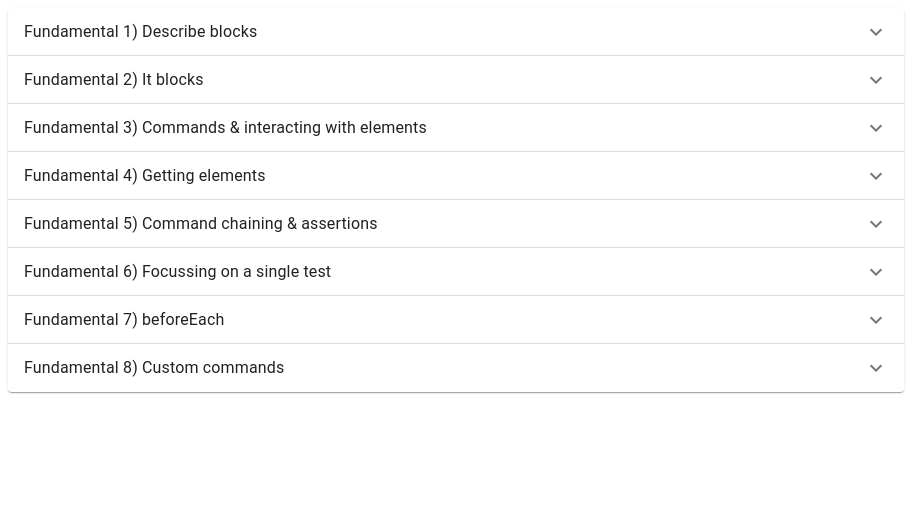
Test case: Accordion.cy.jsx › should render Items Accordion correctly
The image size is (922, 515).
Check: the text "Your tests will exist in a describe block." is not shown
Click the element with test id "accordion-item-1" at (456, 32), box top-left (8, 8), bottom-right (904, 56)
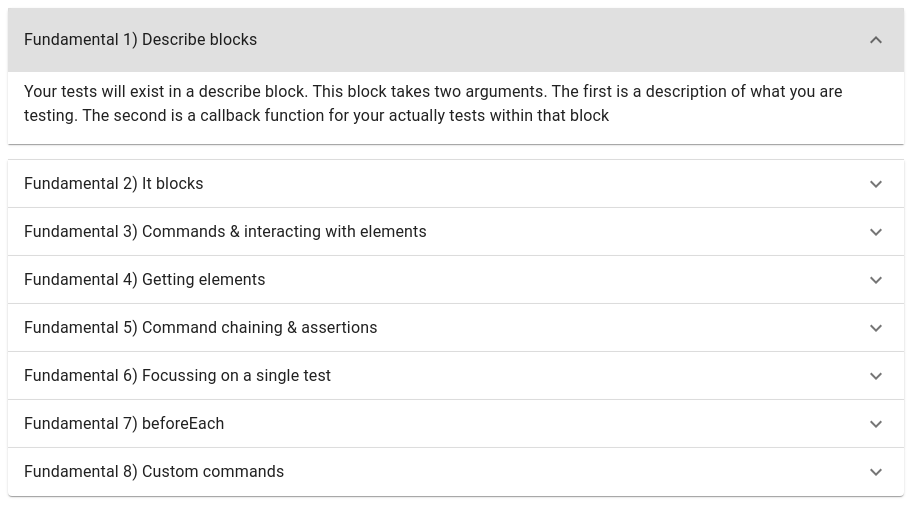
Check: the text "Your tests will exist in a describe block." is shown, box top-left (24, 82), bottom-right (843, 125)
Click the button "Fundamental 1) Describe blocks" at (141, 40), box top-left (8, 8), bottom-right (904, 72)
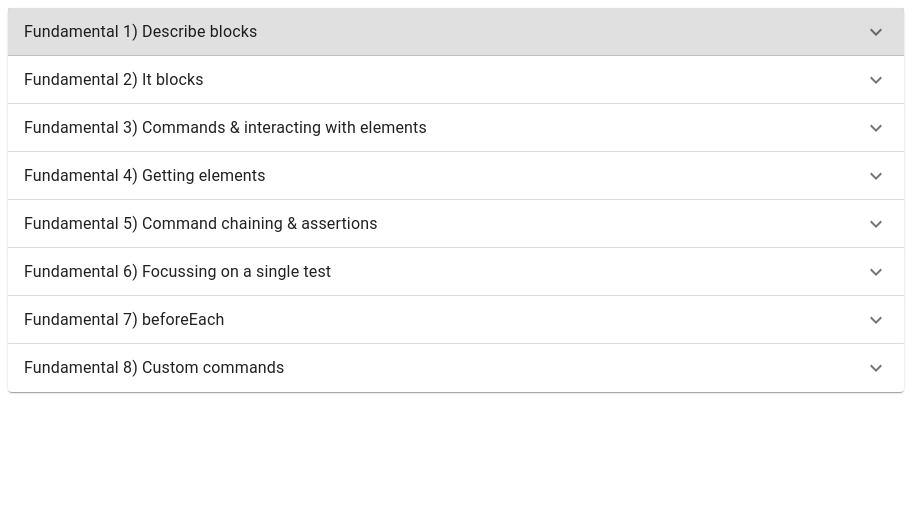
Check: the text "Your tests will exist in a describe block." is gone
